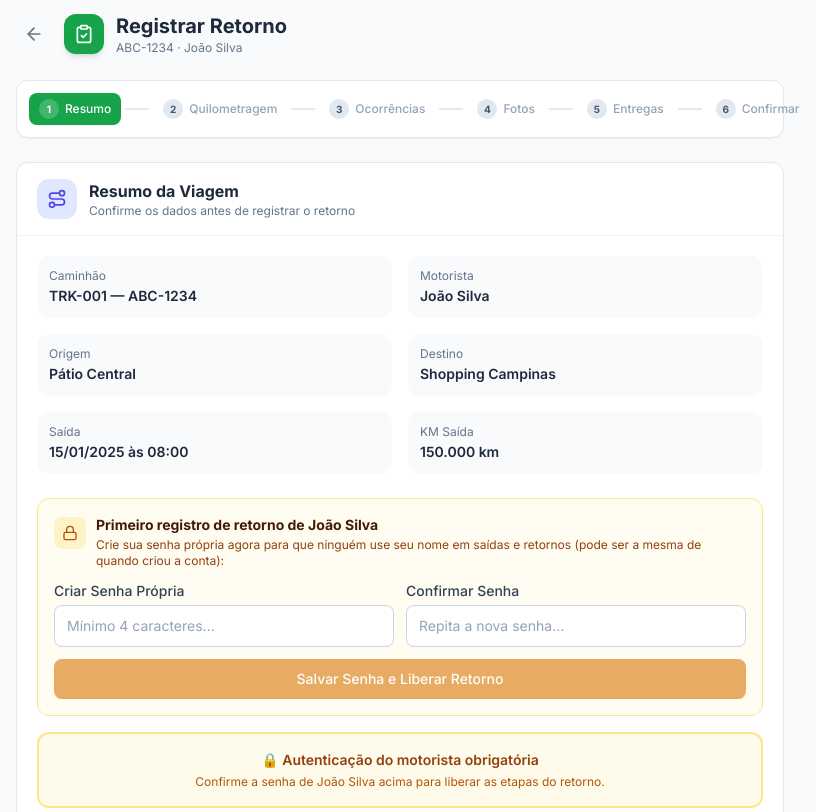
Test: TripReturnPage › goes back to step 1 from step 2 via Voltar button
Expected: the heading "Resumo da Viagem" is shown, [89,181,239,201]
Type "1234" into the password field labelled "Criar Senha Própria" at (224, 626), box [54,605,394,647]
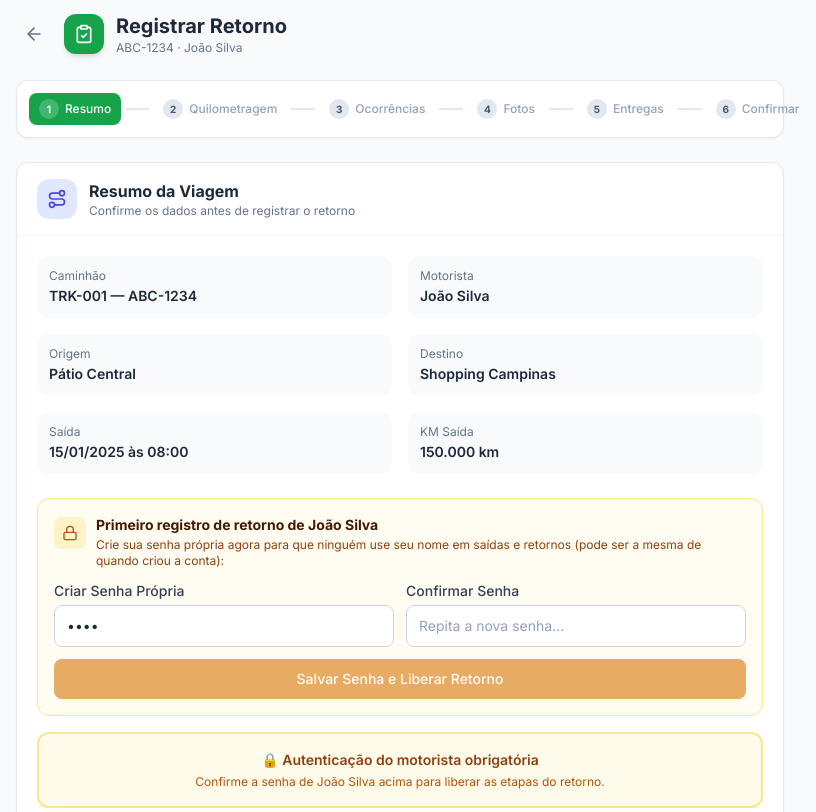
Type "1234" into the password field labelled "Confirmar Senha" at (576, 626), box [406,605,746,647]
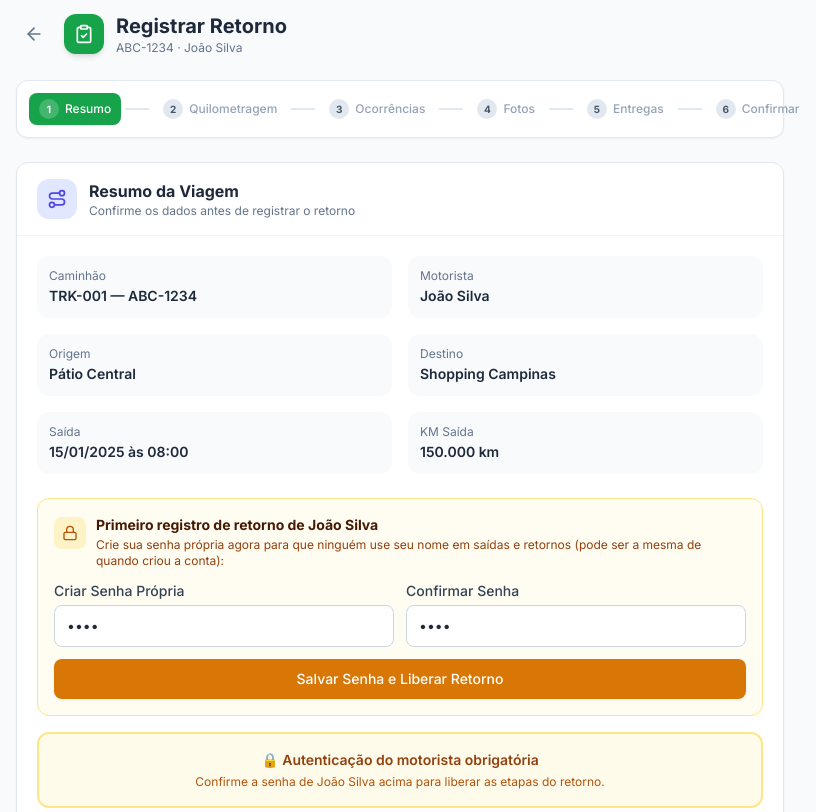
Click the button "Salvar Senha e Liberar Retorno" at (400, 679), box [54,659,746,699]
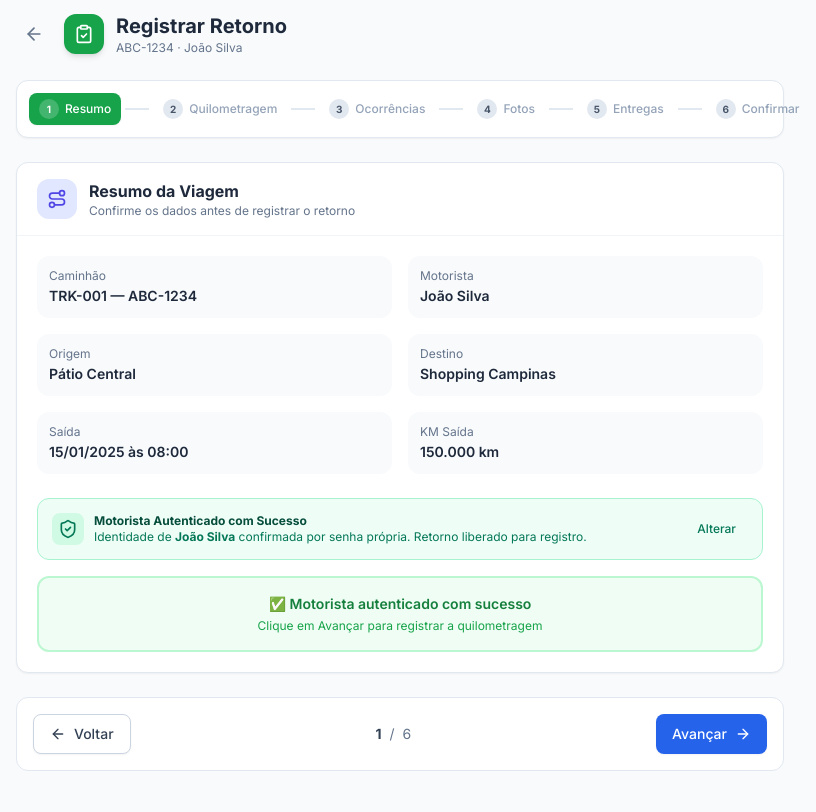
Expected: the text "Motorista Autenticado com Sucesso" is shown, [94,513,307,528]
Click the button "Avançar" at (712, 734), box [656,714,767,754]
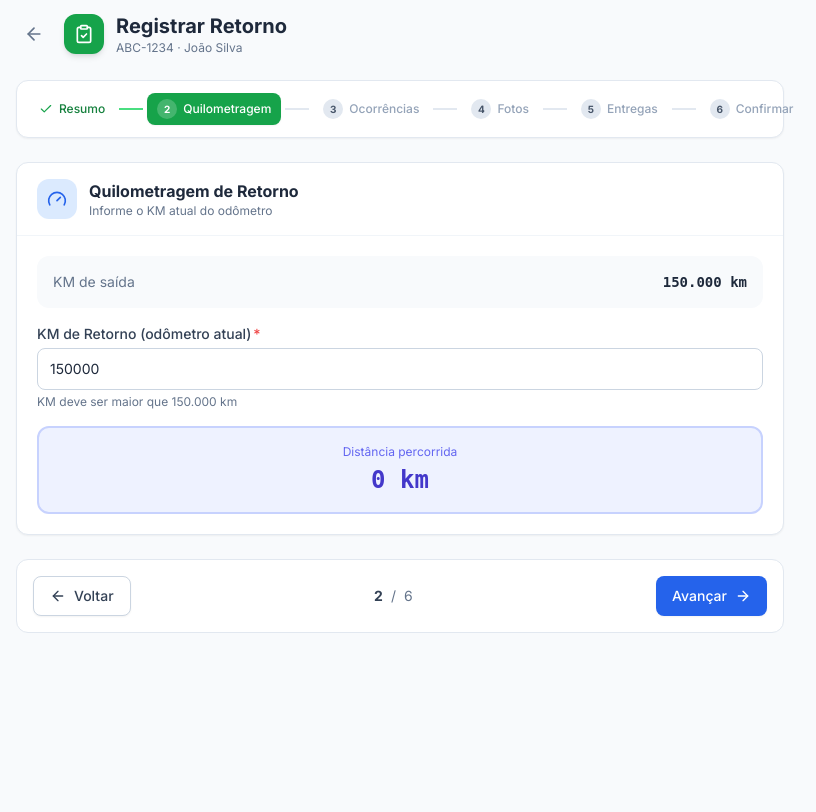
Expected: the heading "Quilometragem de Retorno" is shown, [89,179,299,203]
Click the button "Voltar" at (82, 596), box [33,576,131,616]
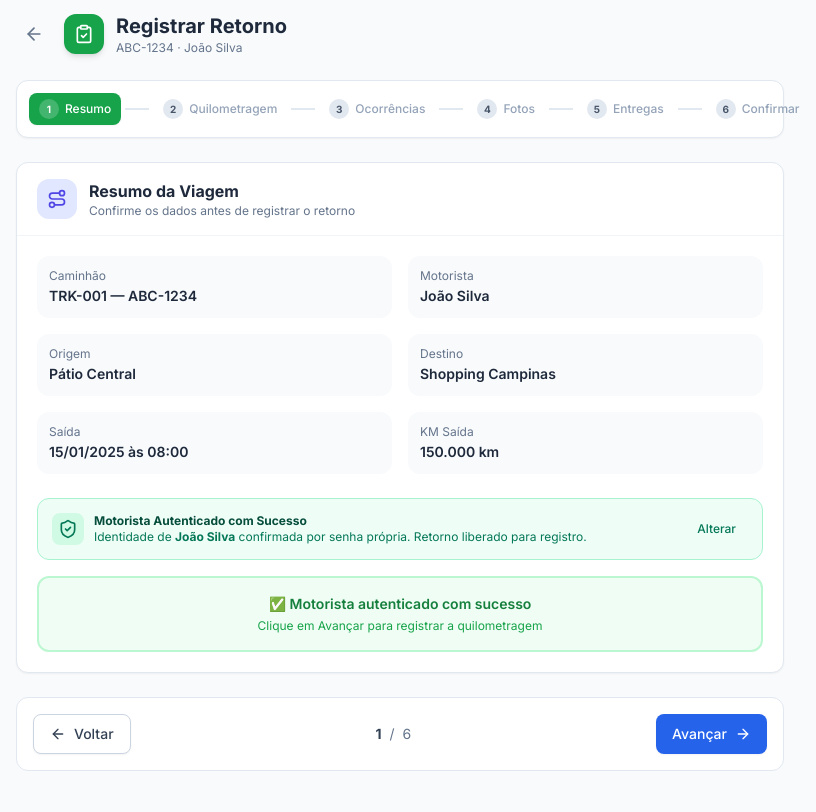
Expected: the heading "Resumo da Viagem" is shown, [89,181,239,201]
